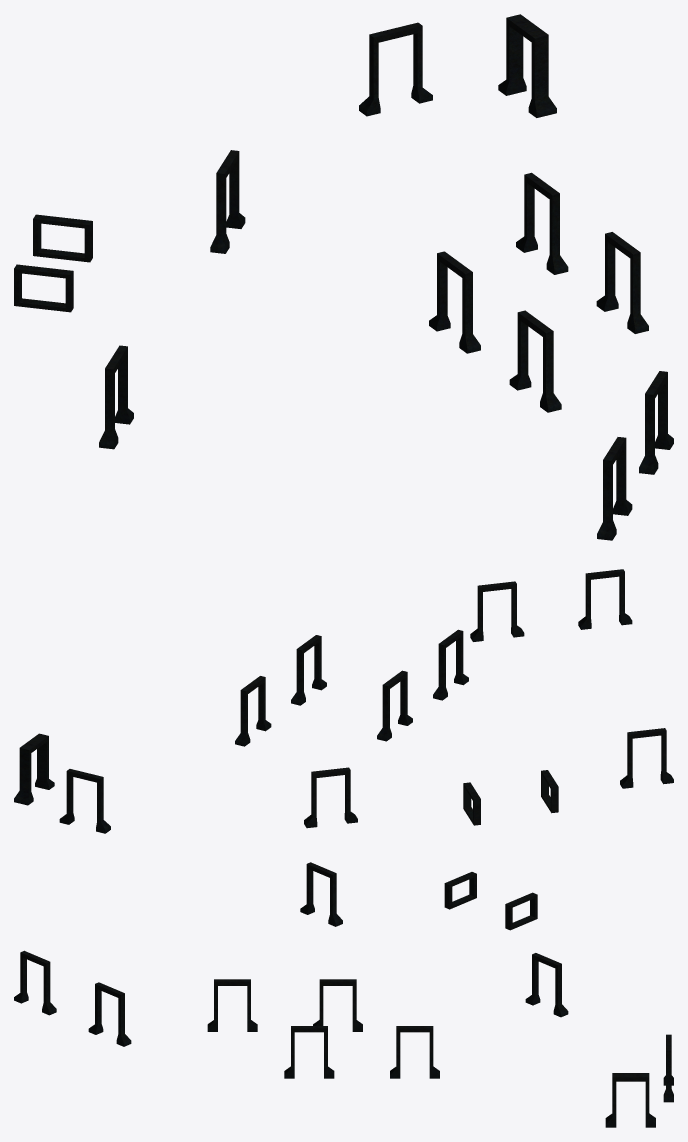
File: doorways.fbx
3 views of the same model, one above another, from view 1: azimuth 30°, elevation 25°; view 2: azimuth 150°, elevation 25°; view 3: azimuth 270°, elevation 25° (orthographic). The views are drawn at different scales.
Parts seen in each view (by area): view 1: polySurface1; view 2: polySurface1; view 3: polySurface1.
Boxes of the visible parts, bbox=[...] form: polySurface1: bbox=[14, 14, 673, 540]; polySurface1: bbox=[14, 569, 673, 833]; polySurface1: bbox=[14, 862, 673, 1127].
Bounding box in the file's own units: 2845 × 305 × 3627.
Materials: 1 (1 with a texture image).
